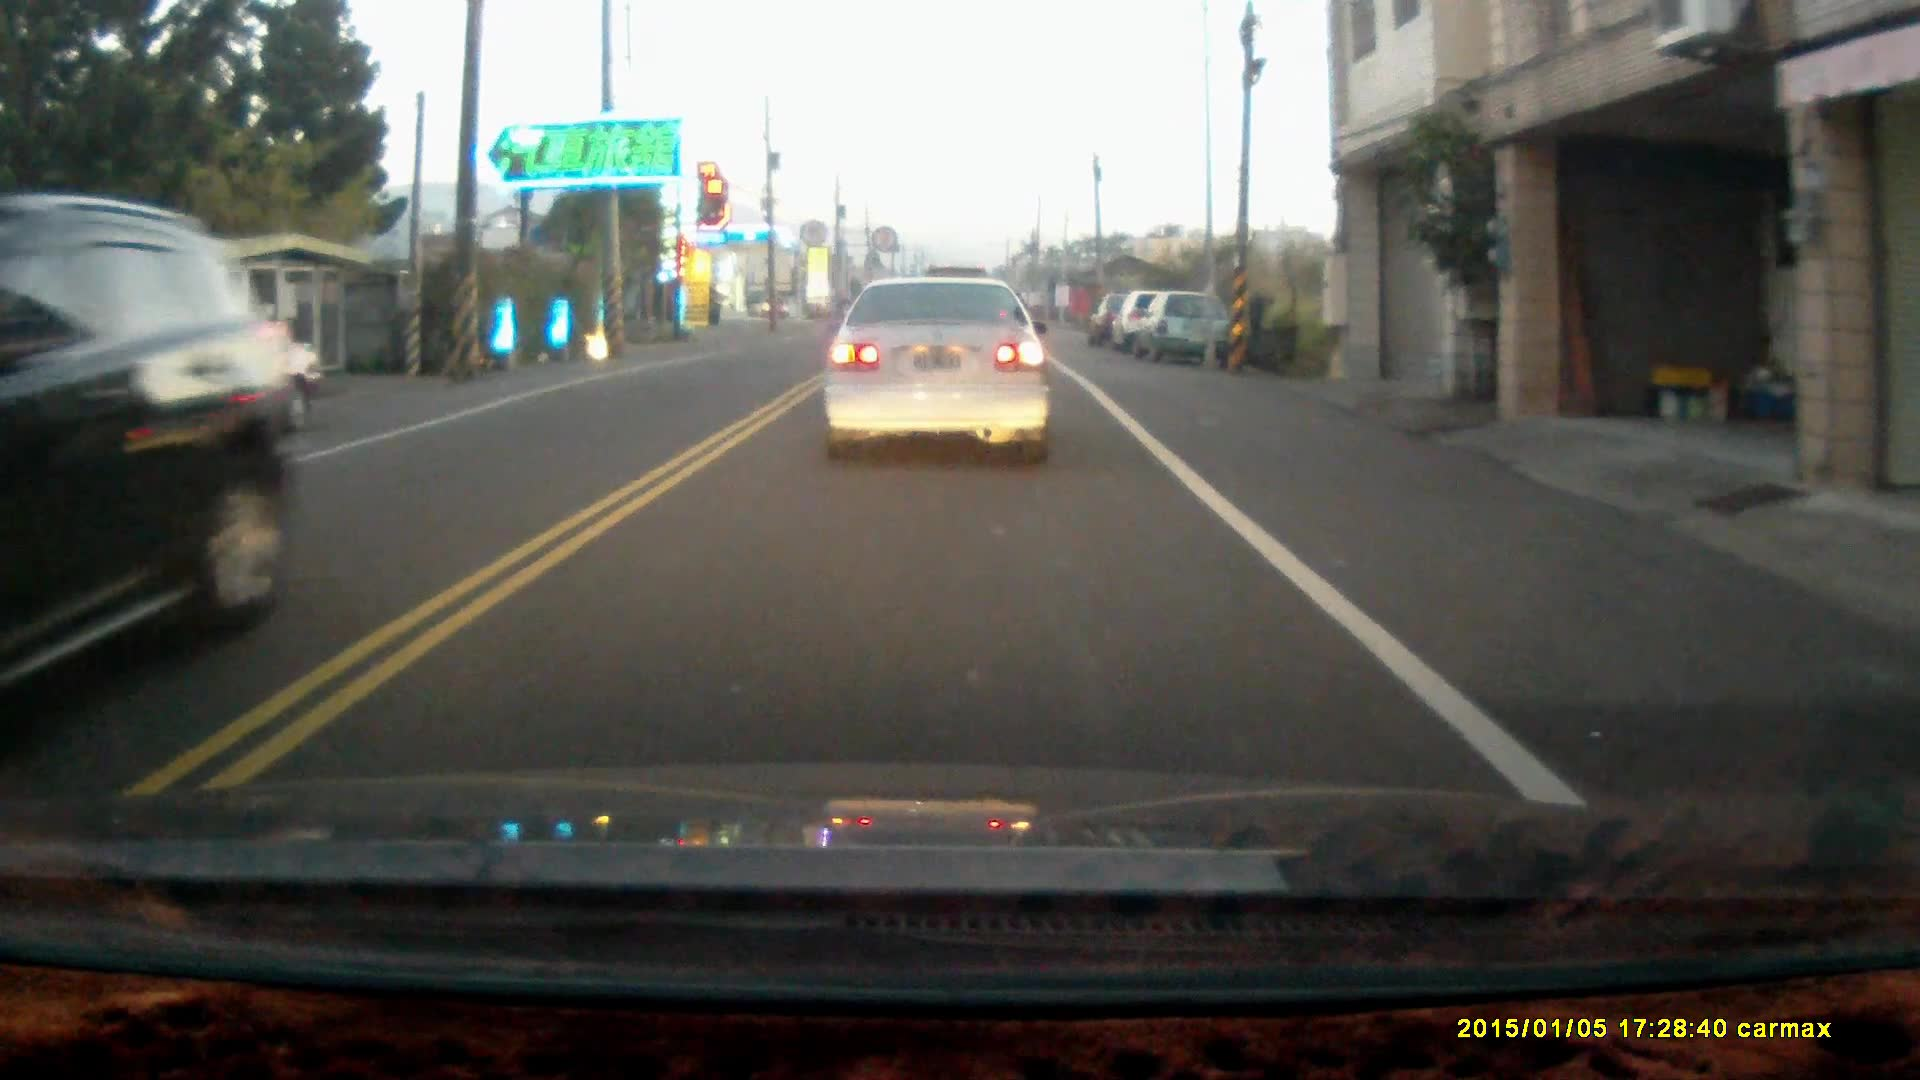vehicle: (1, 196, 298, 717), (819, 276, 1050, 465), (1130, 291, 1230, 365), (1116, 293, 1197, 353)
